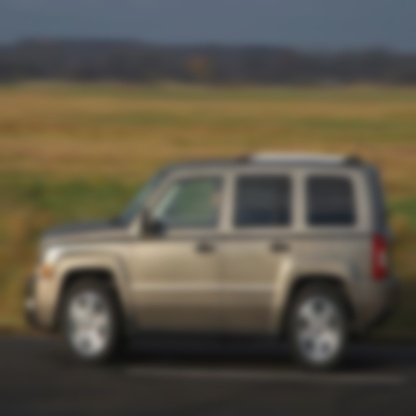Vehicle: (22, 147, 400, 372)
